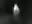person: (14, 5, 21, 18)
